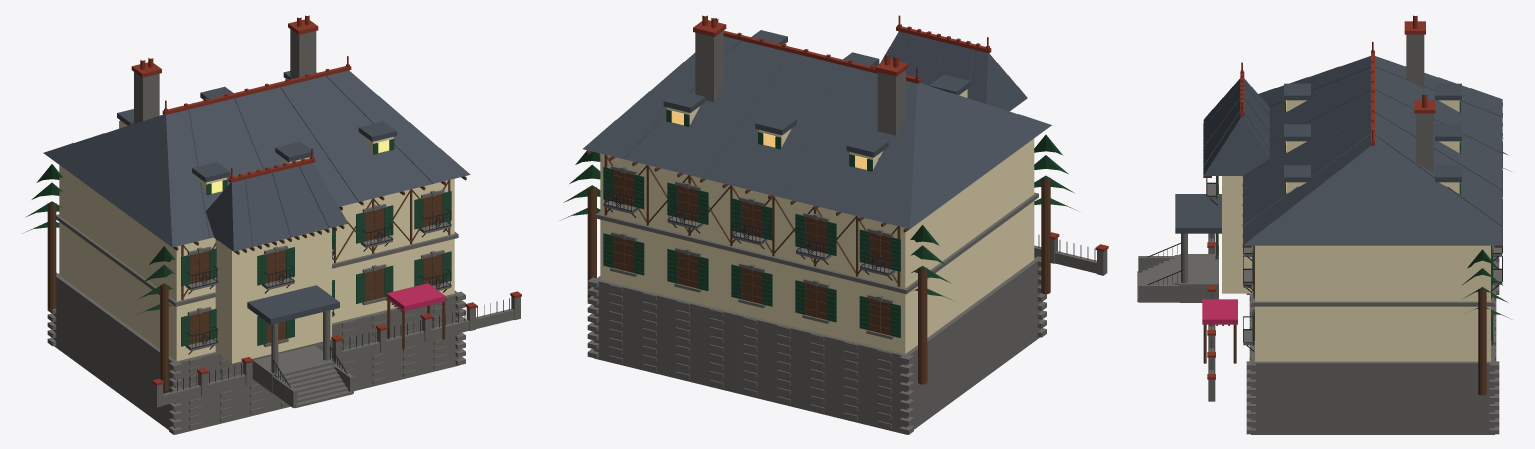
File: fv_hv_09_pasteur_director_residence.glb
3 views of the same model, side by side, from view 1: azimuth 30°, elevation 25°; view 2: azimuth 150°, elevation 25°; view 3: azimuth 270°, elevation 25° (orthographic). The views are drawn at different scales.
Visible parts, largest first — view 1: marseille_corrugated_roof_tiles, granite_foundation_and_stairs, stucco_facade_and_dormers, colombage_timber_and_eaves, pine_green_louvered_shutters, ridge_cresting_and_chimneys, wrought_iron_balconies_3d, pine_trees_and_garden_hedges, bougainvillea_pergola_clusters; view 2: marseille_corrugated_roof_tiles, granite_foundation_and_stairs, stucco_facade_and_dormers, colombage_timber_and_eaves, pine_green_louvered_shutters, ridge_cresting_and_chimneys, pine_trees_and_garden_hedges, wrought_iron_balconies_3d; view 3: marseille_corrugated_roof_tiles, stucco_facade_and_dormers, granite_foundation_and_stairs, colombage_timber_and_eaves, ridge_cresting_and_chimneys, bougainvillea_pergola_clusters, wrought_iron_balconies_3d, pine_trees_and_garden_hedges, pine_green_louvered_shutters.
Part boxes in pixels (<box>): marseille_corrugated_roof_tiles: <box>43,70,470,324</box>; granite_foundation_and_stairs: <box>47,29,520,434</box>; stucco_facade_and_dormers: <box>59,100,454,363</box>; colombage_timber_and_eaves: <box>47,176,466,391</box>; pine_green_louvered_shutters: <box>119,121,451,346</box>; ridge_cresting_and_chimneys: <box>131,15,521,385</box>; wrought_iron_balconies_3d: <box>164,208,509,394</box>; pine_trees_and_garden_hedges: <box>23,164,175,315</box>; bougainvillea_pergola_clusters: <box>386,283,445,311</box>; marseille_corrugated_roof_tiles: <box>583,30,1051,228</box>; granite_foundation_and_stairs: <box>587,31,1107,434</box>; stucco_facade_and_dormers: <box>600,89,1034,353</box>; colombage_timber_and_eaves: <box>587,150,1050,384</box>; pine_green_louvered_shutters: <box>603,90,968,337</box>; ridge_cresting_and_chimneys: <box>693,15,1108,251</box>; pine_trees_and_garden_hedges: <box>560,134,1077,300</box>; wrought_iron_balconies_3d: <box>603,186,1095,280</box>; marseille_corrugated_roof_tiles: <box>1175,56,1502,245</box>; stucco_facade_and_dormers: <box>1222,100,1490,361</box>; granite_foundation_and_stairs: <box>1137,34,1502,434</box>; colombage_timber_and_eaves: <box>1203,103,1502,395</box>; ridge_cresting_and_chimneys: <box>1207,15,1435,379</box>; bougainvillea_pergola_clusters: <box>1202,299,1237,324</box>; wrought_iron_balconies_3d: <box>1147,142,1502,373</box>; pine_trees_and_garden_hedges: <box>1461,138,1511,319</box>; pine_green_louvered_shutters: <box>1216,100,1493,345</box>.
Size of the model in its own units: 25.6 by 20.23 by 23.08.
